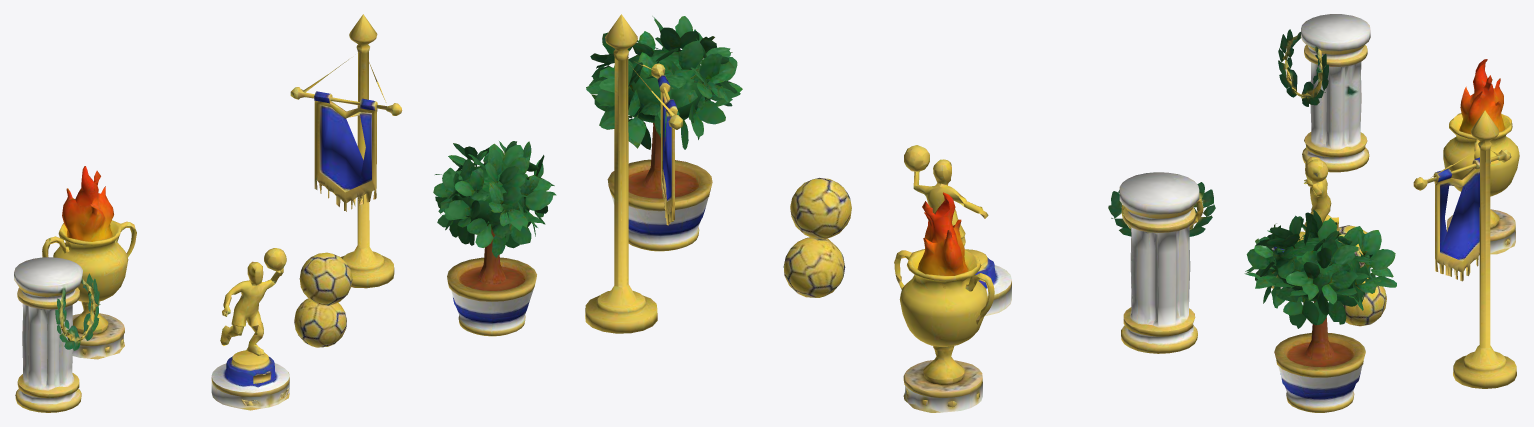
Rendered from leyendas_objetos.glb.
3 renders of one model, left to right at view 1: azimuth 30°, elevation 25°; view 2: azimuth 150°, elevation 25°; view 3: azimuth 270°, elevation 25°, orthographic. The views are drawn at different scales.
Visible parts, largest first — view 1: tripo_node_f7510181-ba51-49ee-ba42-936e52be664d; view 2: tripo_node_f7510181-ba51-49ee-ba42-936e52be664d; view 3: tripo_node_f7510181-ba51-49ee-ba42-936e52be664d.
Part boxes in pixels (x1=…): tripo_node_f7510181-ba51-49ee-ba42-936e52be664d: x1=14, y1=14, x2=556, y2=412; tripo_node_f7510181-ba51-49ee-ba42-936e52be664d: x1=585, y1=14, x2=1215, y2=412; tripo_node_f7510181-ba51-49ee-ba42-936e52be664d: x1=1244, y1=14, x2=1519, y2=412.
Size of the model in its own units: 0.9824 by 0.4741 by 0.4399.
Materials: 1 (1 with a texture image).
